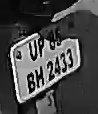2: (44, 60, 56, 81)
3: (59, 52, 69, 74), (66, 49, 75, 69)
4: (53, 57, 62, 76)
5: (54, 27, 62, 48)
8: (48, 30, 55, 52)
B: (25, 70, 37, 95)
H: (35, 67, 46, 88)
P: (38, 38, 46, 59)
U: (27, 40, 38, 62)
